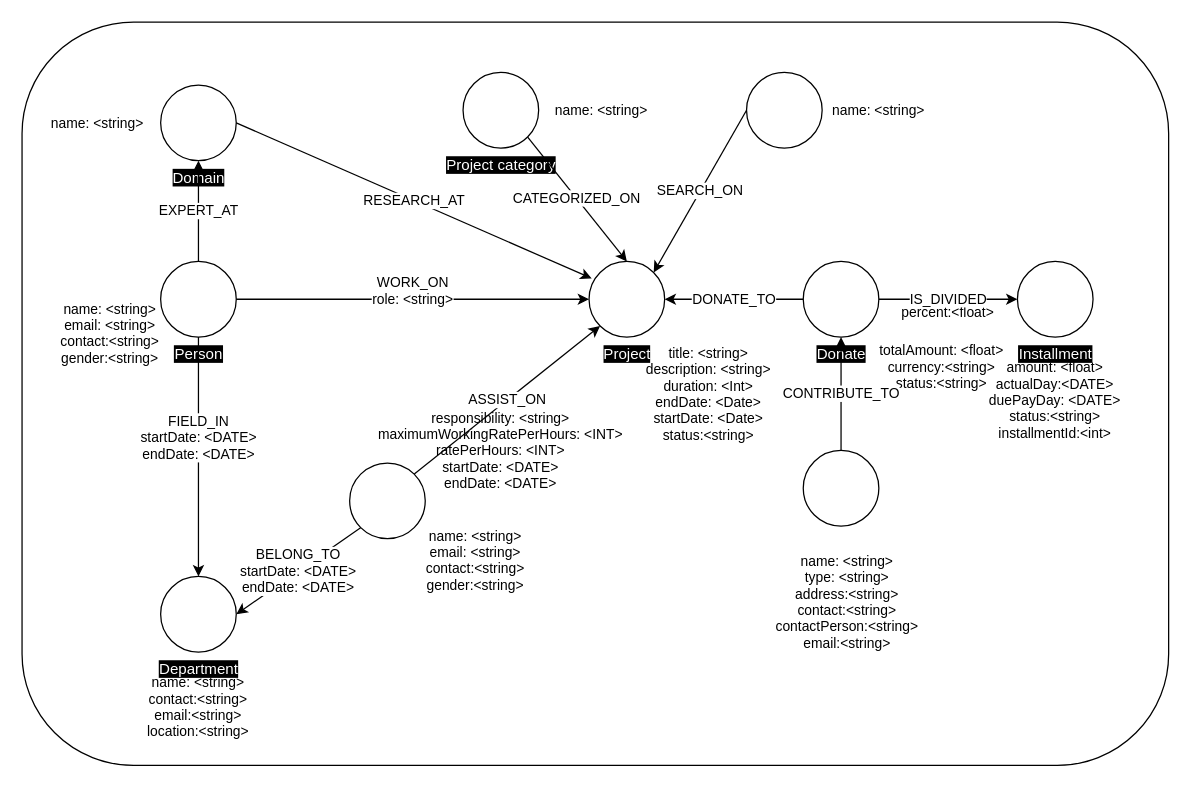
This 1191x788 diagram has some shape labels left out. Each missing label, with the centre of its shape:
Donor: (840,487)
Keyword: (783,109)
Student: (386,500)
